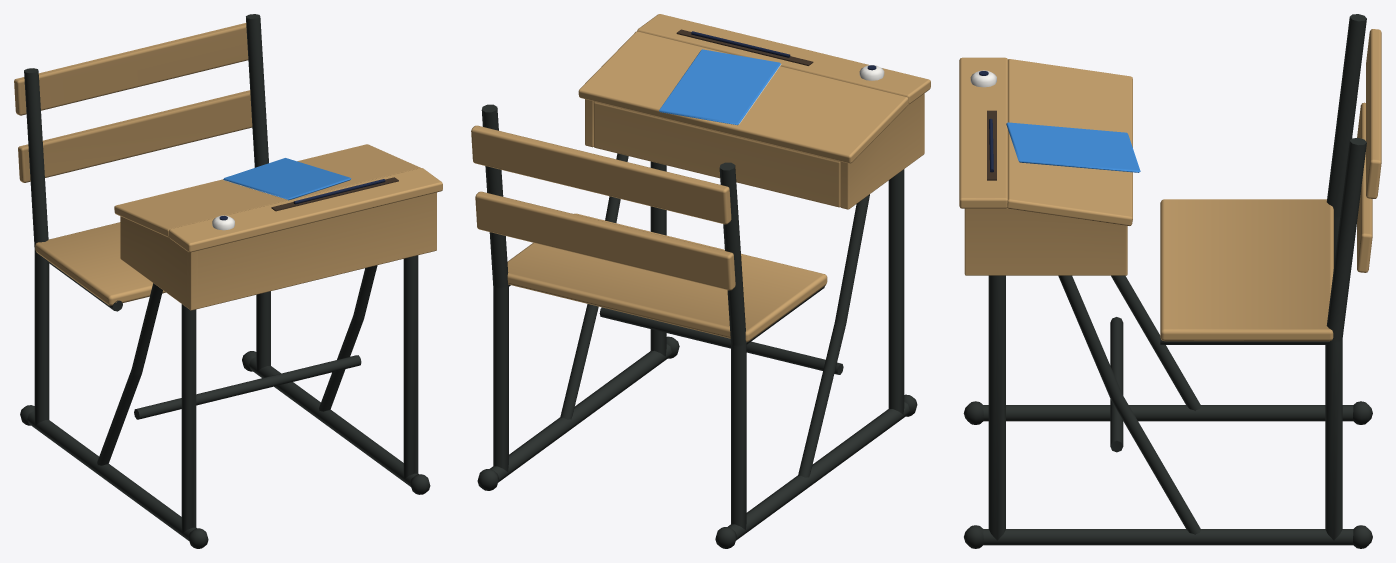
The model's file is schoolDesk.glb.
The picture shows the model from 3 angles, left to right: view 1: azimuth 30°, elevation 25°; view 2: azimuth 150°, elevation 25°; view 3: azimuth 270°, elevation 25°; orthographic projection. The views are drawn at different scales.
Visible parts, largest first — view 1: desk; view 2: desk; view 3: desk.
Boxes of the visible parts, box(x1,y1,x2,y2) form: desk: box(14, 14, 442, 548); desk: box(471, 14, 930, 548); desk: box(959, 14, 1381, 548).
Bounding box in the file's own units: 0.62 × 0.8278 × 0.7778.
